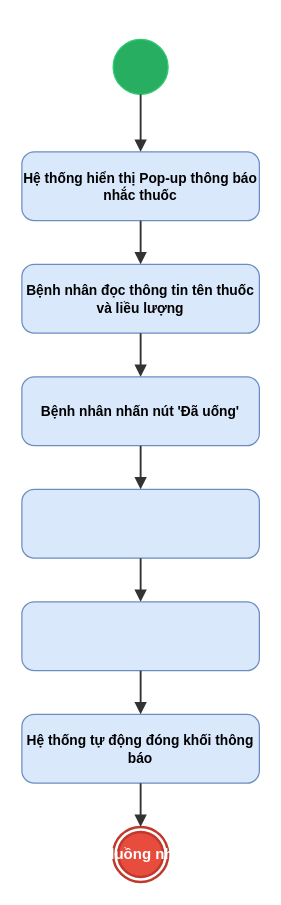
Image size: 281x905. Some labels were removed from this diagram. Here are the shapes that lost their labels. From the top down, the box of each, then its label:
(112, 38, 168, 94): Đến giờ uống thuốc đã hẹn
(21, 488, 259, 558): Hệ thống ghi nhận trạng thái 'Đã uống' vào DB
(21, 601, 259, 671): Hiển thị Toast thông báo 'Đã ghi nhận'
